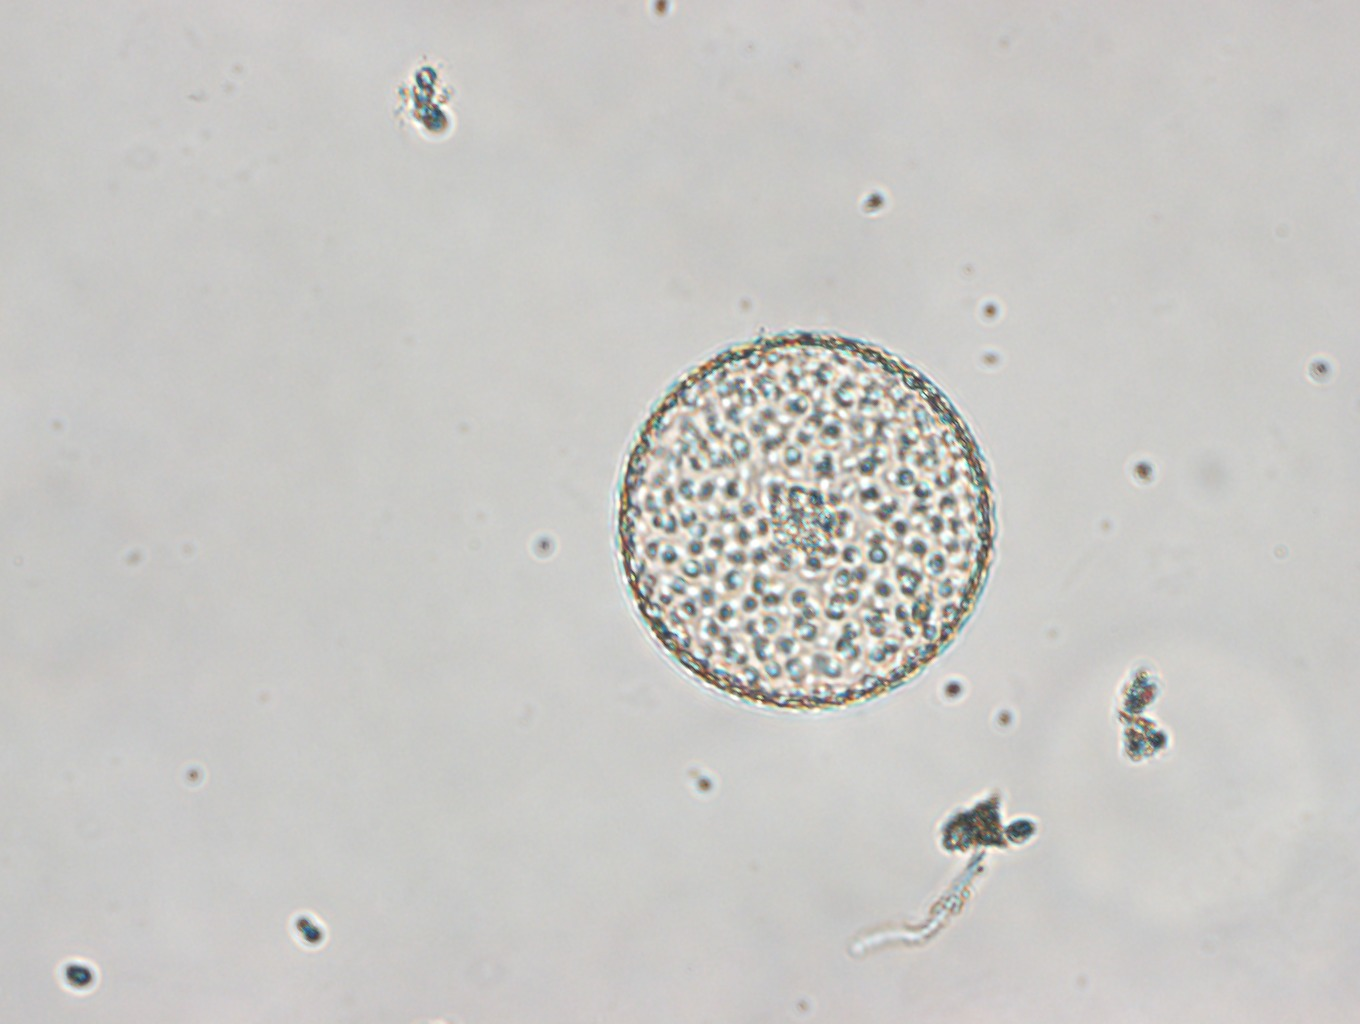coscinodiscus: (615, 330, 997, 710)
